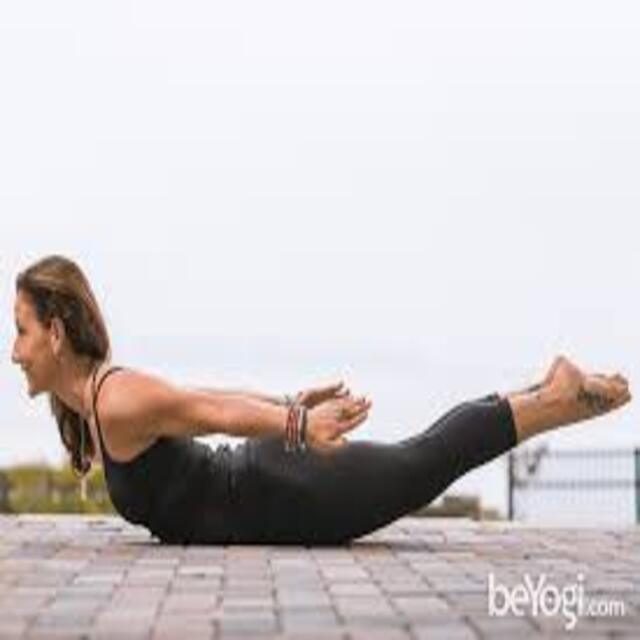Locust_Pose: (9, 250, 635, 552)
